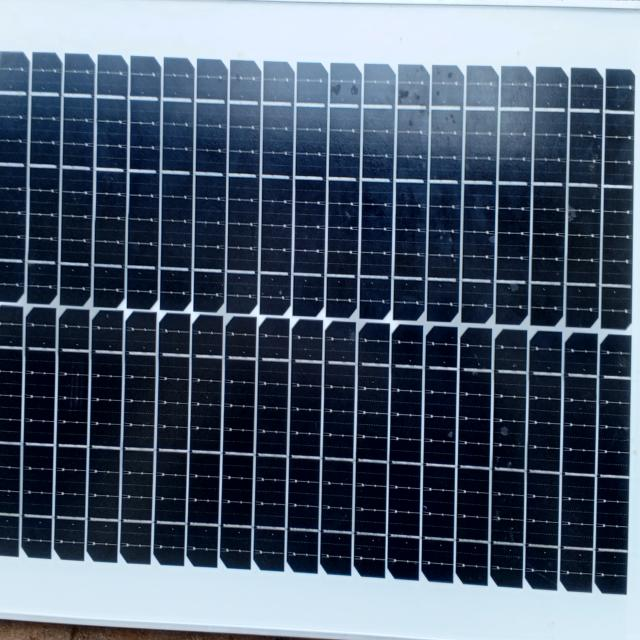Clean: (2, 5, 638, 602)
